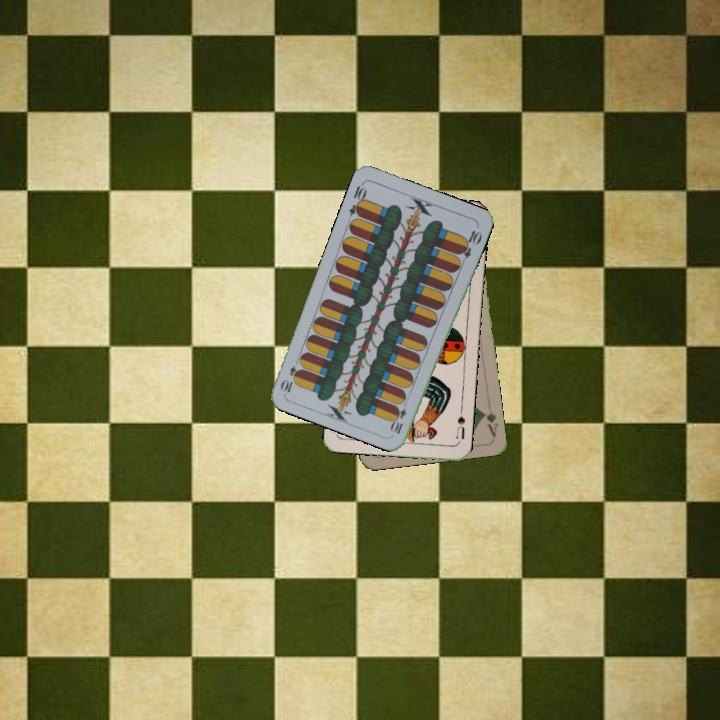E10: (345, 179, 369, 219), (388, 396, 410, 436)
GA: (479, 408, 500, 439)
SU: (452, 404, 468, 442)
